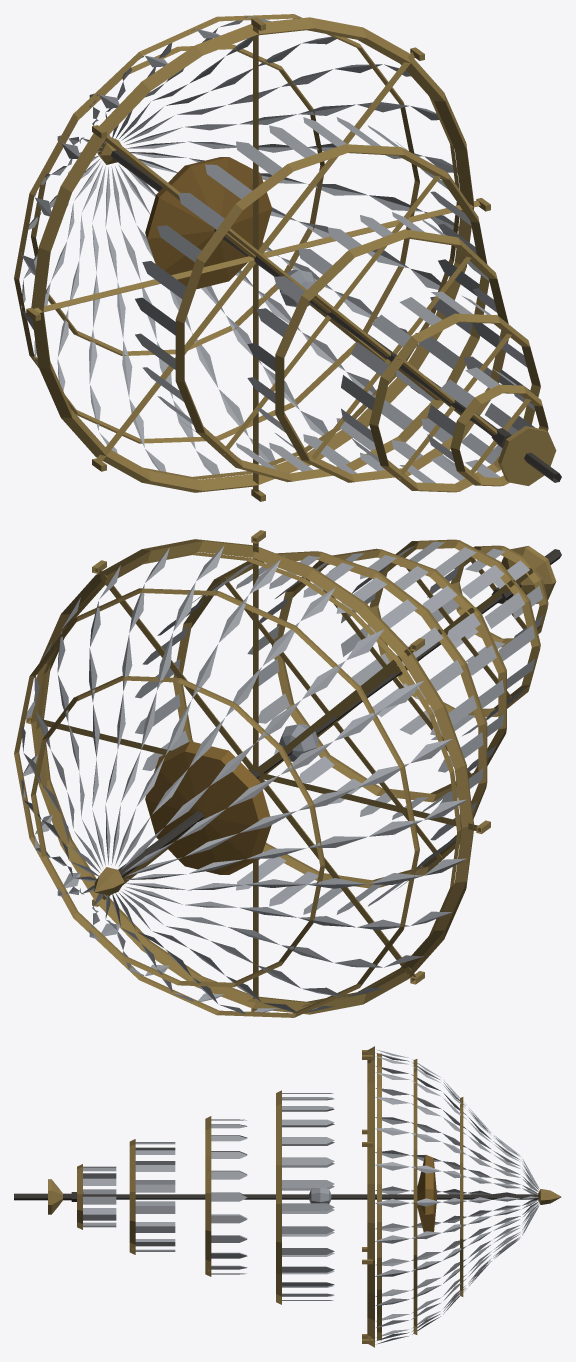
Rendered from chandelier.obj.
3 views of the same model, one above another, from view 1: azimuth 30°, elevation 25°; view 2: azimuth 150°, elevation 25°; view 3: azimuth 270°, elevation 25° (orthographic). The views are drawn at different scales.
Bounding box in the file's own units: 1.65 × 1.65 × 2.9.
Materials: 1 (1 with a texture image).
